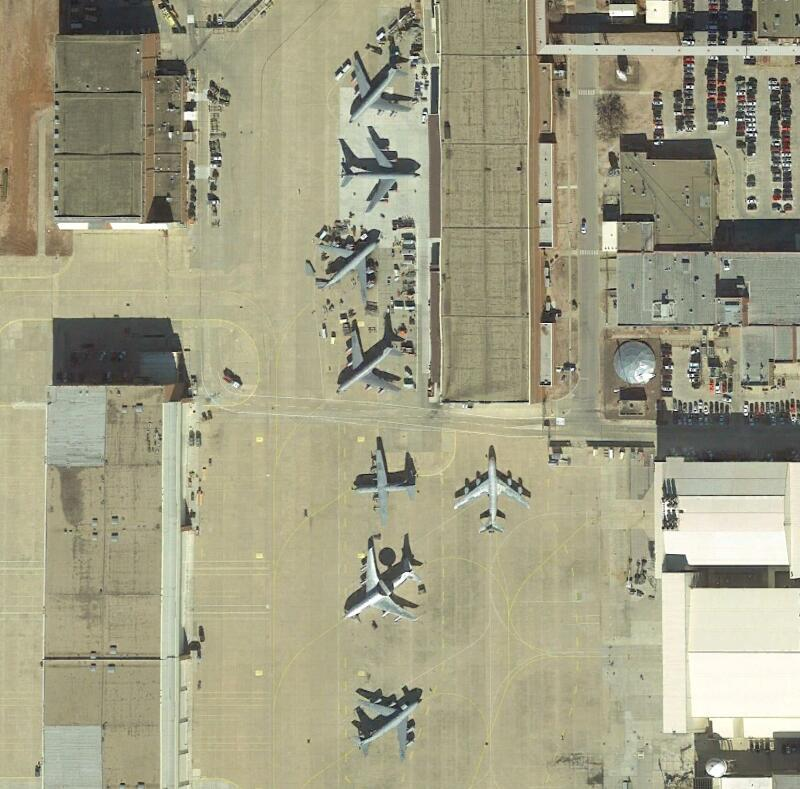A11: (453, 452, 531, 539)
A14: (338, 133, 419, 212), (352, 687, 429, 763), (345, 55, 416, 126), (333, 328, 403, 396), (315, 236, 381, 300)
A2: (349, 447, 417, 529)
A7: (341, 544, 427, 625)
